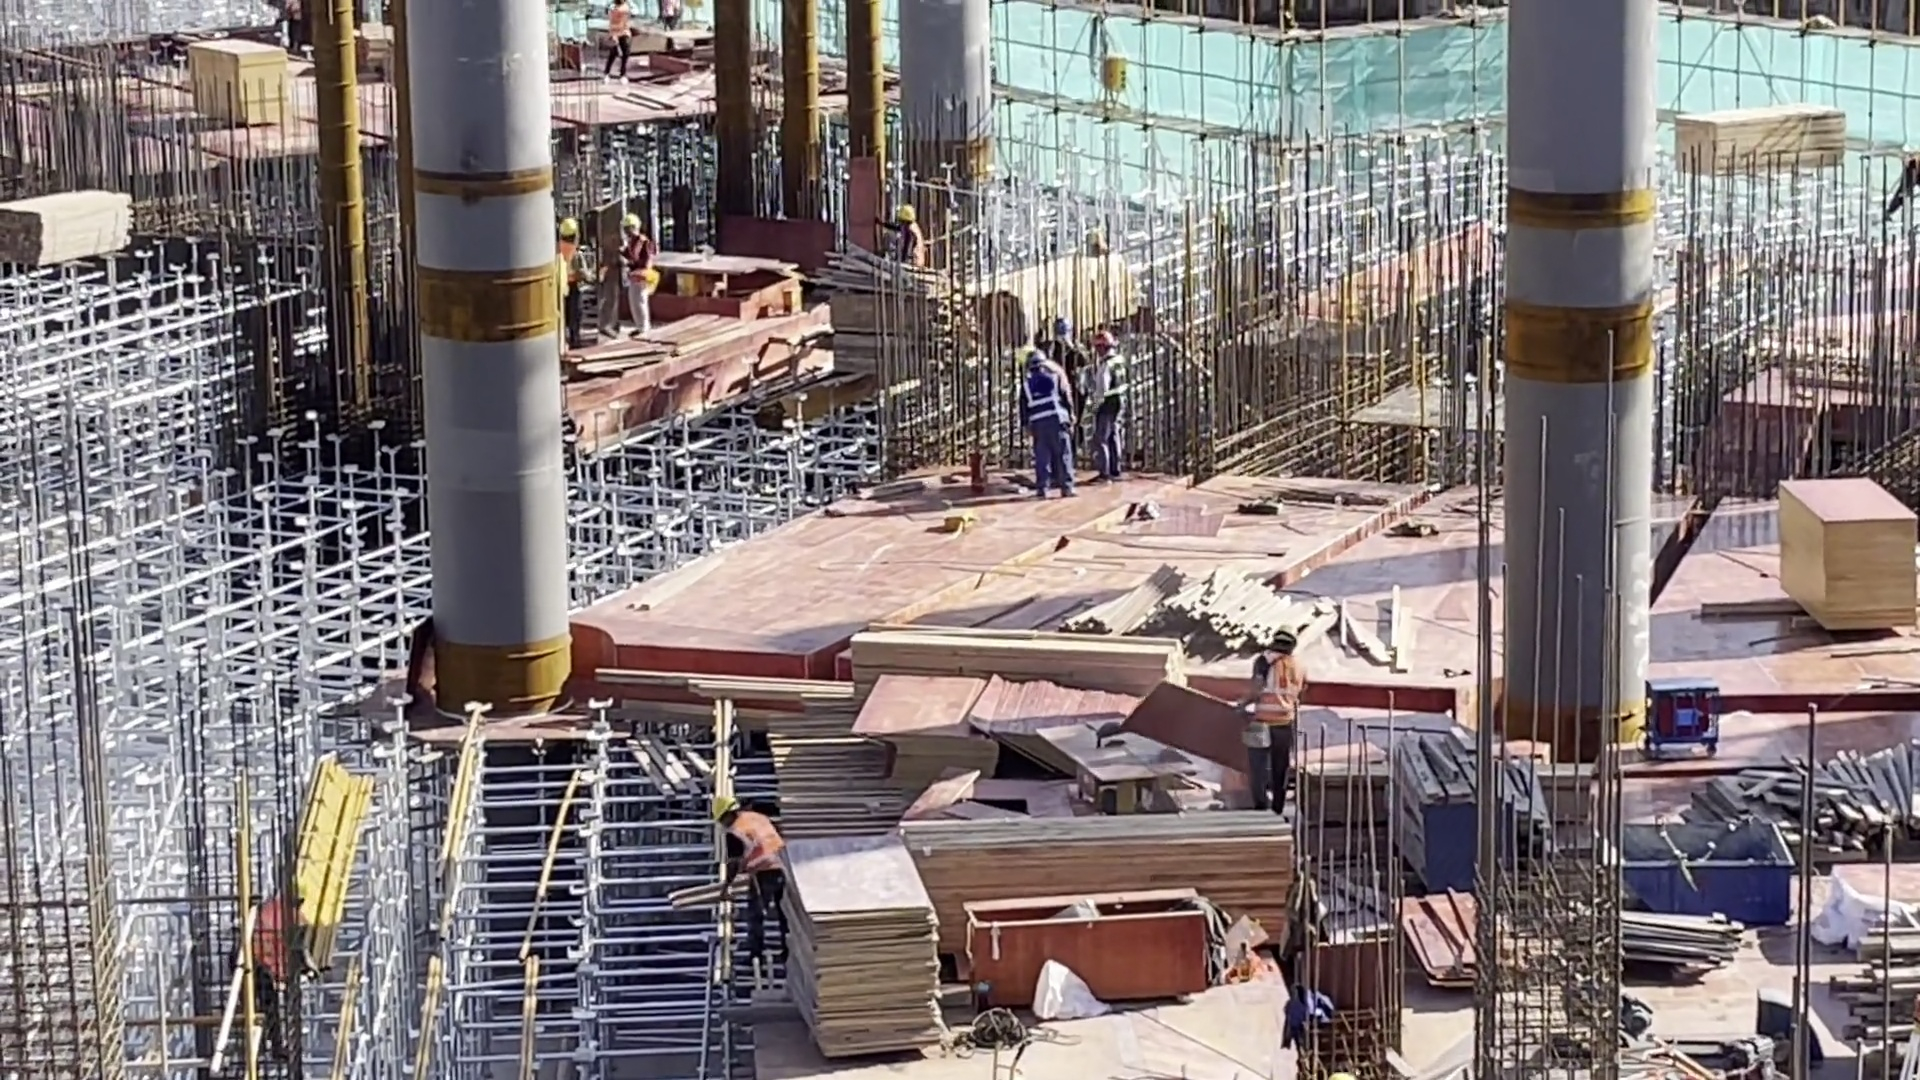board: (783, 832, 946, 1059), (1778, 471, 1920, 634), (860, 678, 995, 812), (188, 40, 289, 128), (1398, 888, 1480, 991)
cutter: (1031, 722, 1196, 817), (653, 251, 800, 323)
ebox: (1100, 54, 1129, 116)
helmet: (709, 794, 736, 819), (1272, 623, 1300, 644), (1092, 330, 1116, 350), (557, 218, 579, 238), (1050, 318, 1074, 333), (1023, 350, 1051, 363), (623, 212, 643, 230), (896, 205, 915, 221)
hopper: (1619, 818, 1796, 927)
person: (1238, 619, 1313, 815), (709, 786, 788, 970), (231, 874, 299, 1019), (1019, 352, 1079, 497), (1087, 326, 1129, 479), (621, 209, 665, 331), (551, 213, 589, 342), (1880, 140, 1920, 231), (1030, 314, 1086, 361), (887, 206, 927, 266), (605, 1, 631, 82)
vest: (723, 811, 784, 891), (1257, 656, 1303, 727), (1025, 365, 1065, 423), (1096, 354, 1130, 417), (625, 237, 661, 290), (558, 242, 586, 296), (899, 223, 924, 266), (1050, 339, 1083, 365)
wood: (1057, 559, 1409, 666), (1665, 741, 1920, 877), (899, 809, 1295, 888), (853, 619, 1189, 694), (813, 255, 961, 392), (970, 253, 1146, 353), (1841, 901, 1920, 1080), (1671, 100, 1847, 174), (1, 186, 136, 269)
